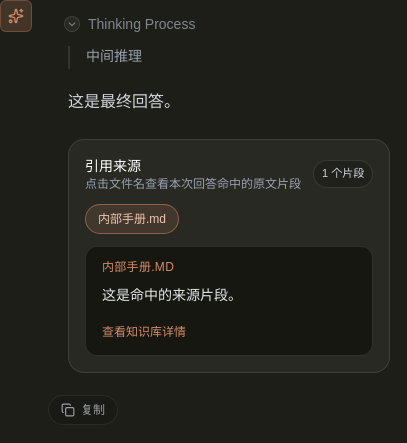
Test: MessageBubble › copies the visible assistant answer content
Click the button "复制" at point(83, 410), box left=48, top=395, right=118, bottom=425
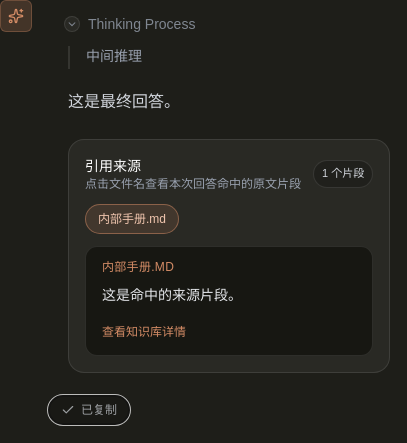
Result: the button "已复制" is shown at left=48, top=395, right=130, bottom=425
